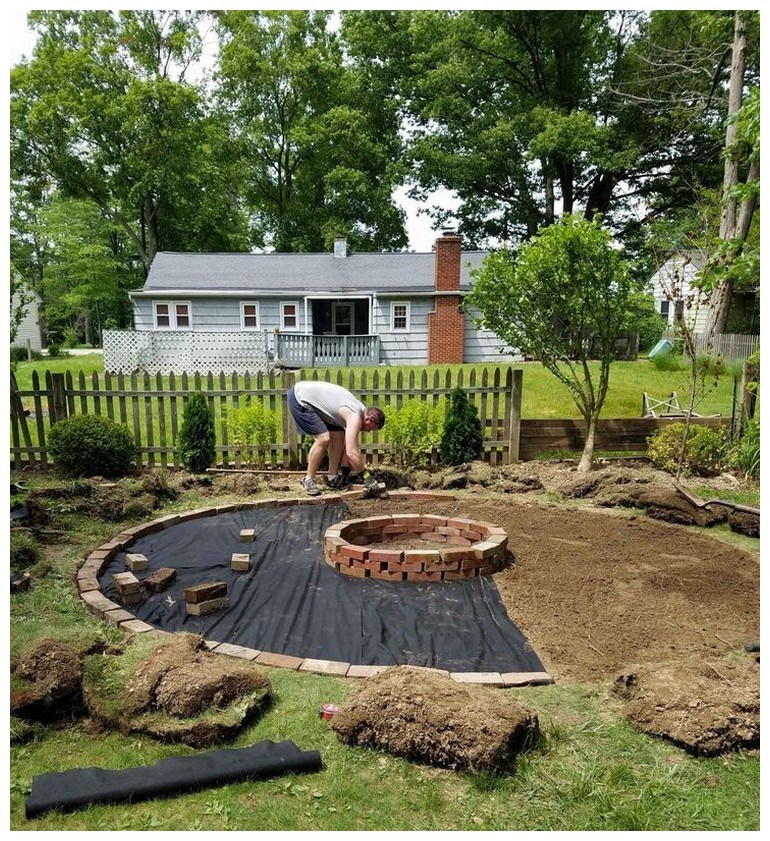bush: (40, 411, 152, 474)
tree: (455, 220, 699, 477)
